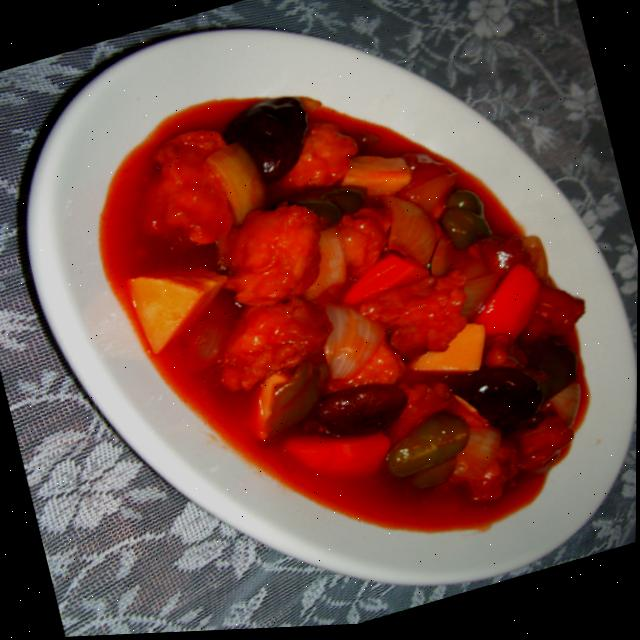猪肉菜式: (70, 9, 640, 619)
